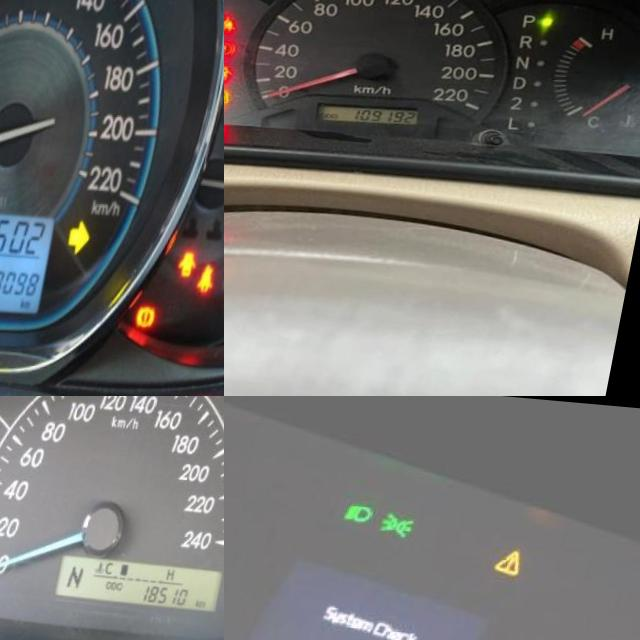Seat Belt: (229, 11, 245, 30), (215, 256, 224, 285)
